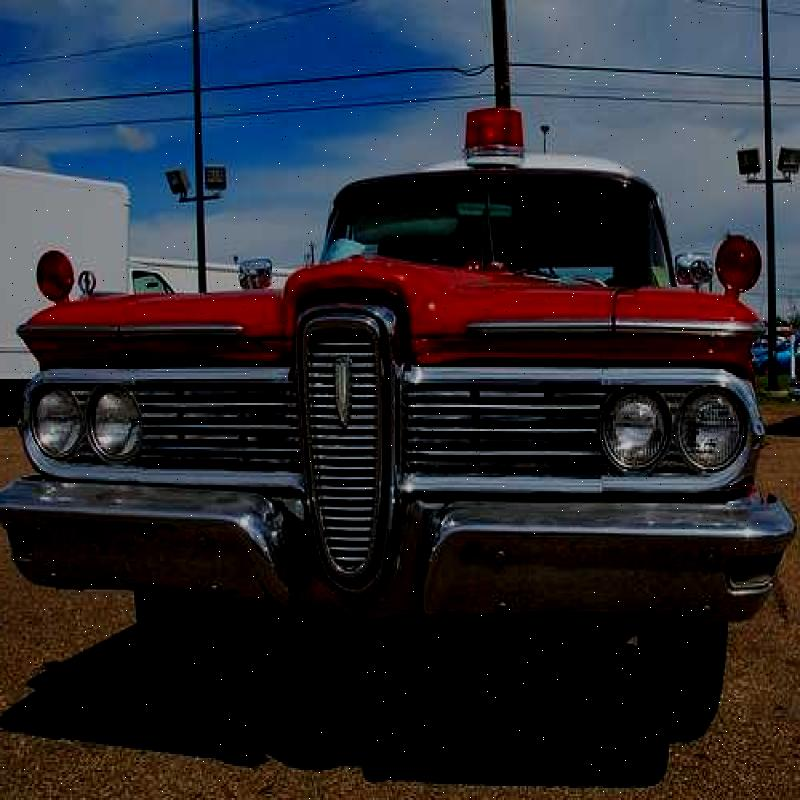AmbulanceSiren: (454, 86, 531, 190)
